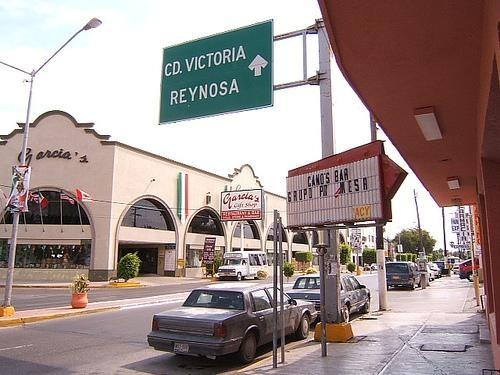bus: (218, 252, 268, 282)
car: (146, 261, 444, 366), (459, 258, 480, 282), (452, 263, 460, 274), (441, 269, 450, 276)
